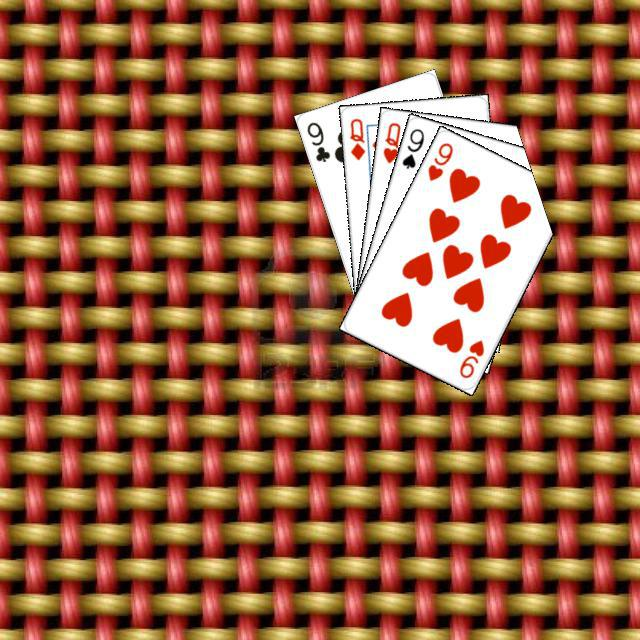9c: (302, 117, 332, 164)
9h: (423, 137, 455, 183), (454, 335, 486, 380)
9s: (397, 124, 426, 170)
Qd: (345, 114, 366, 162)
Qh: (378, 117, 402, 165)
